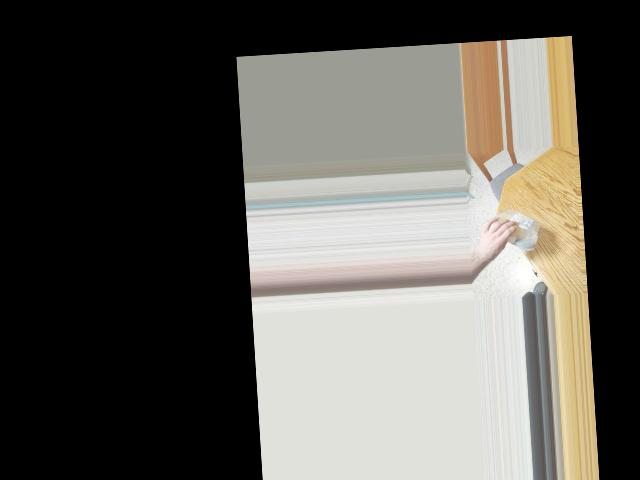cheese: (495, 210, 537, 240)
